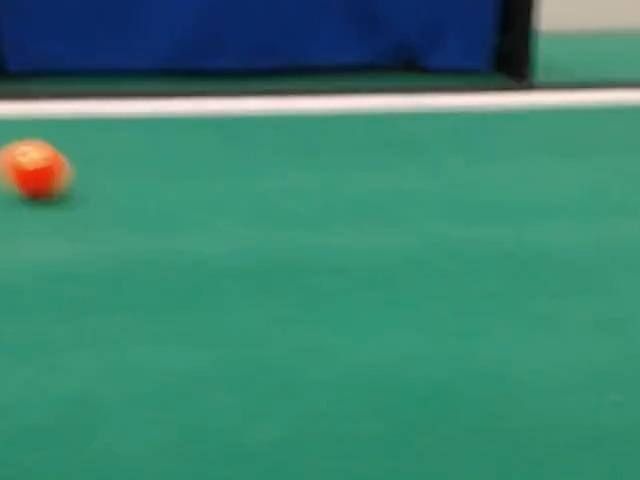Ball: (0, 139, 73, 200)
